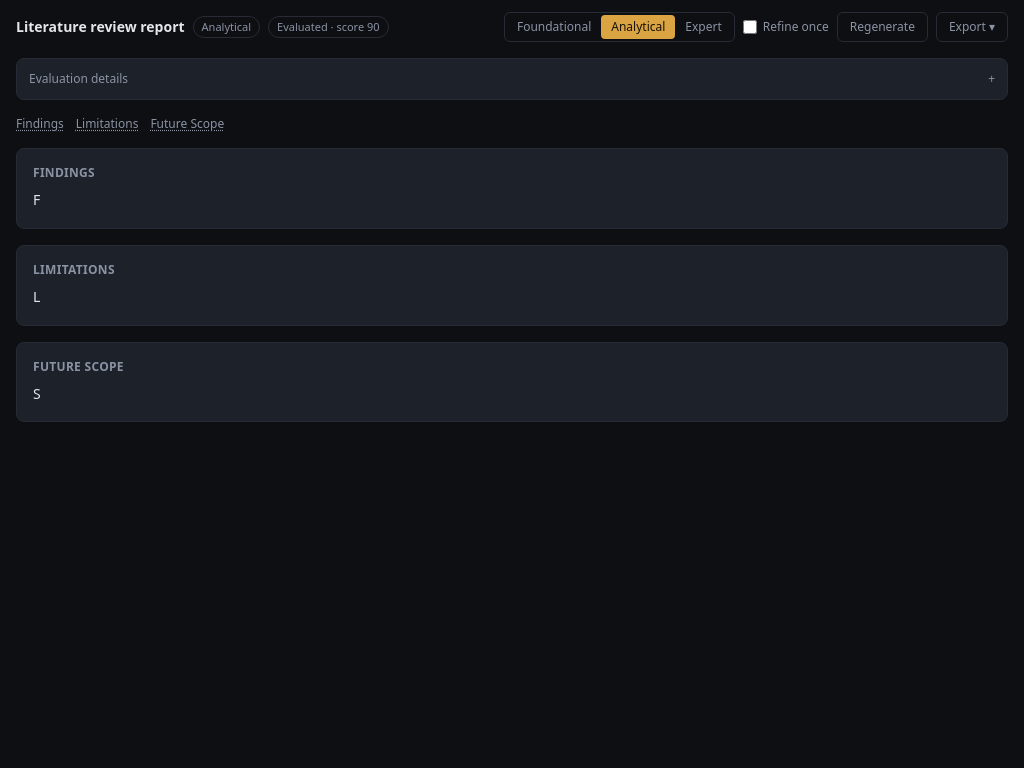
ReportModePanel -- report-quality Phase R4.2: evaluation details disclosure › rounds===0: shows "Score N" and "No revision needed", not an Initial/Final score comparison
Click the button with test id "evaluation-details-toggle". click: x=79, y=78
box: [29,71,995,87]
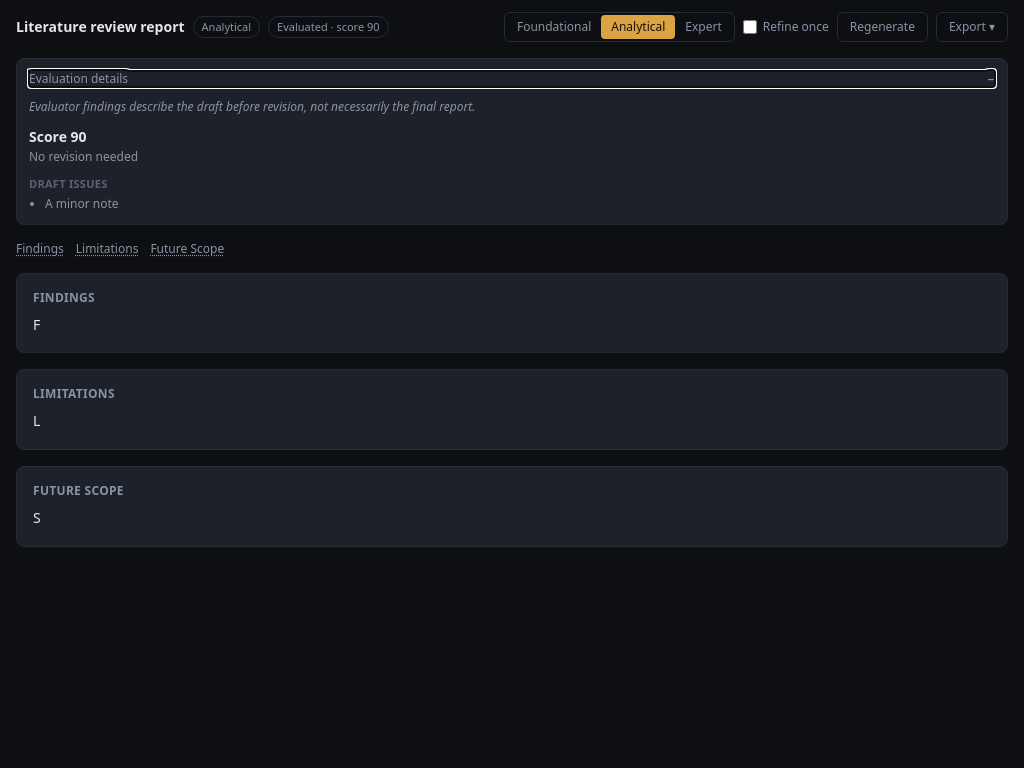
Expected: the element with test id "evaluation-details-score-summary" does not show "Initial score", [29,127,138,165]
Expected: the element with test id "evaluation-details-score-summary" shows "Score 90", [29,127,138,165]
Expected: the element with test id "evaluation-details-score-summary" shows "No revision needed", [29,148,138,165]
